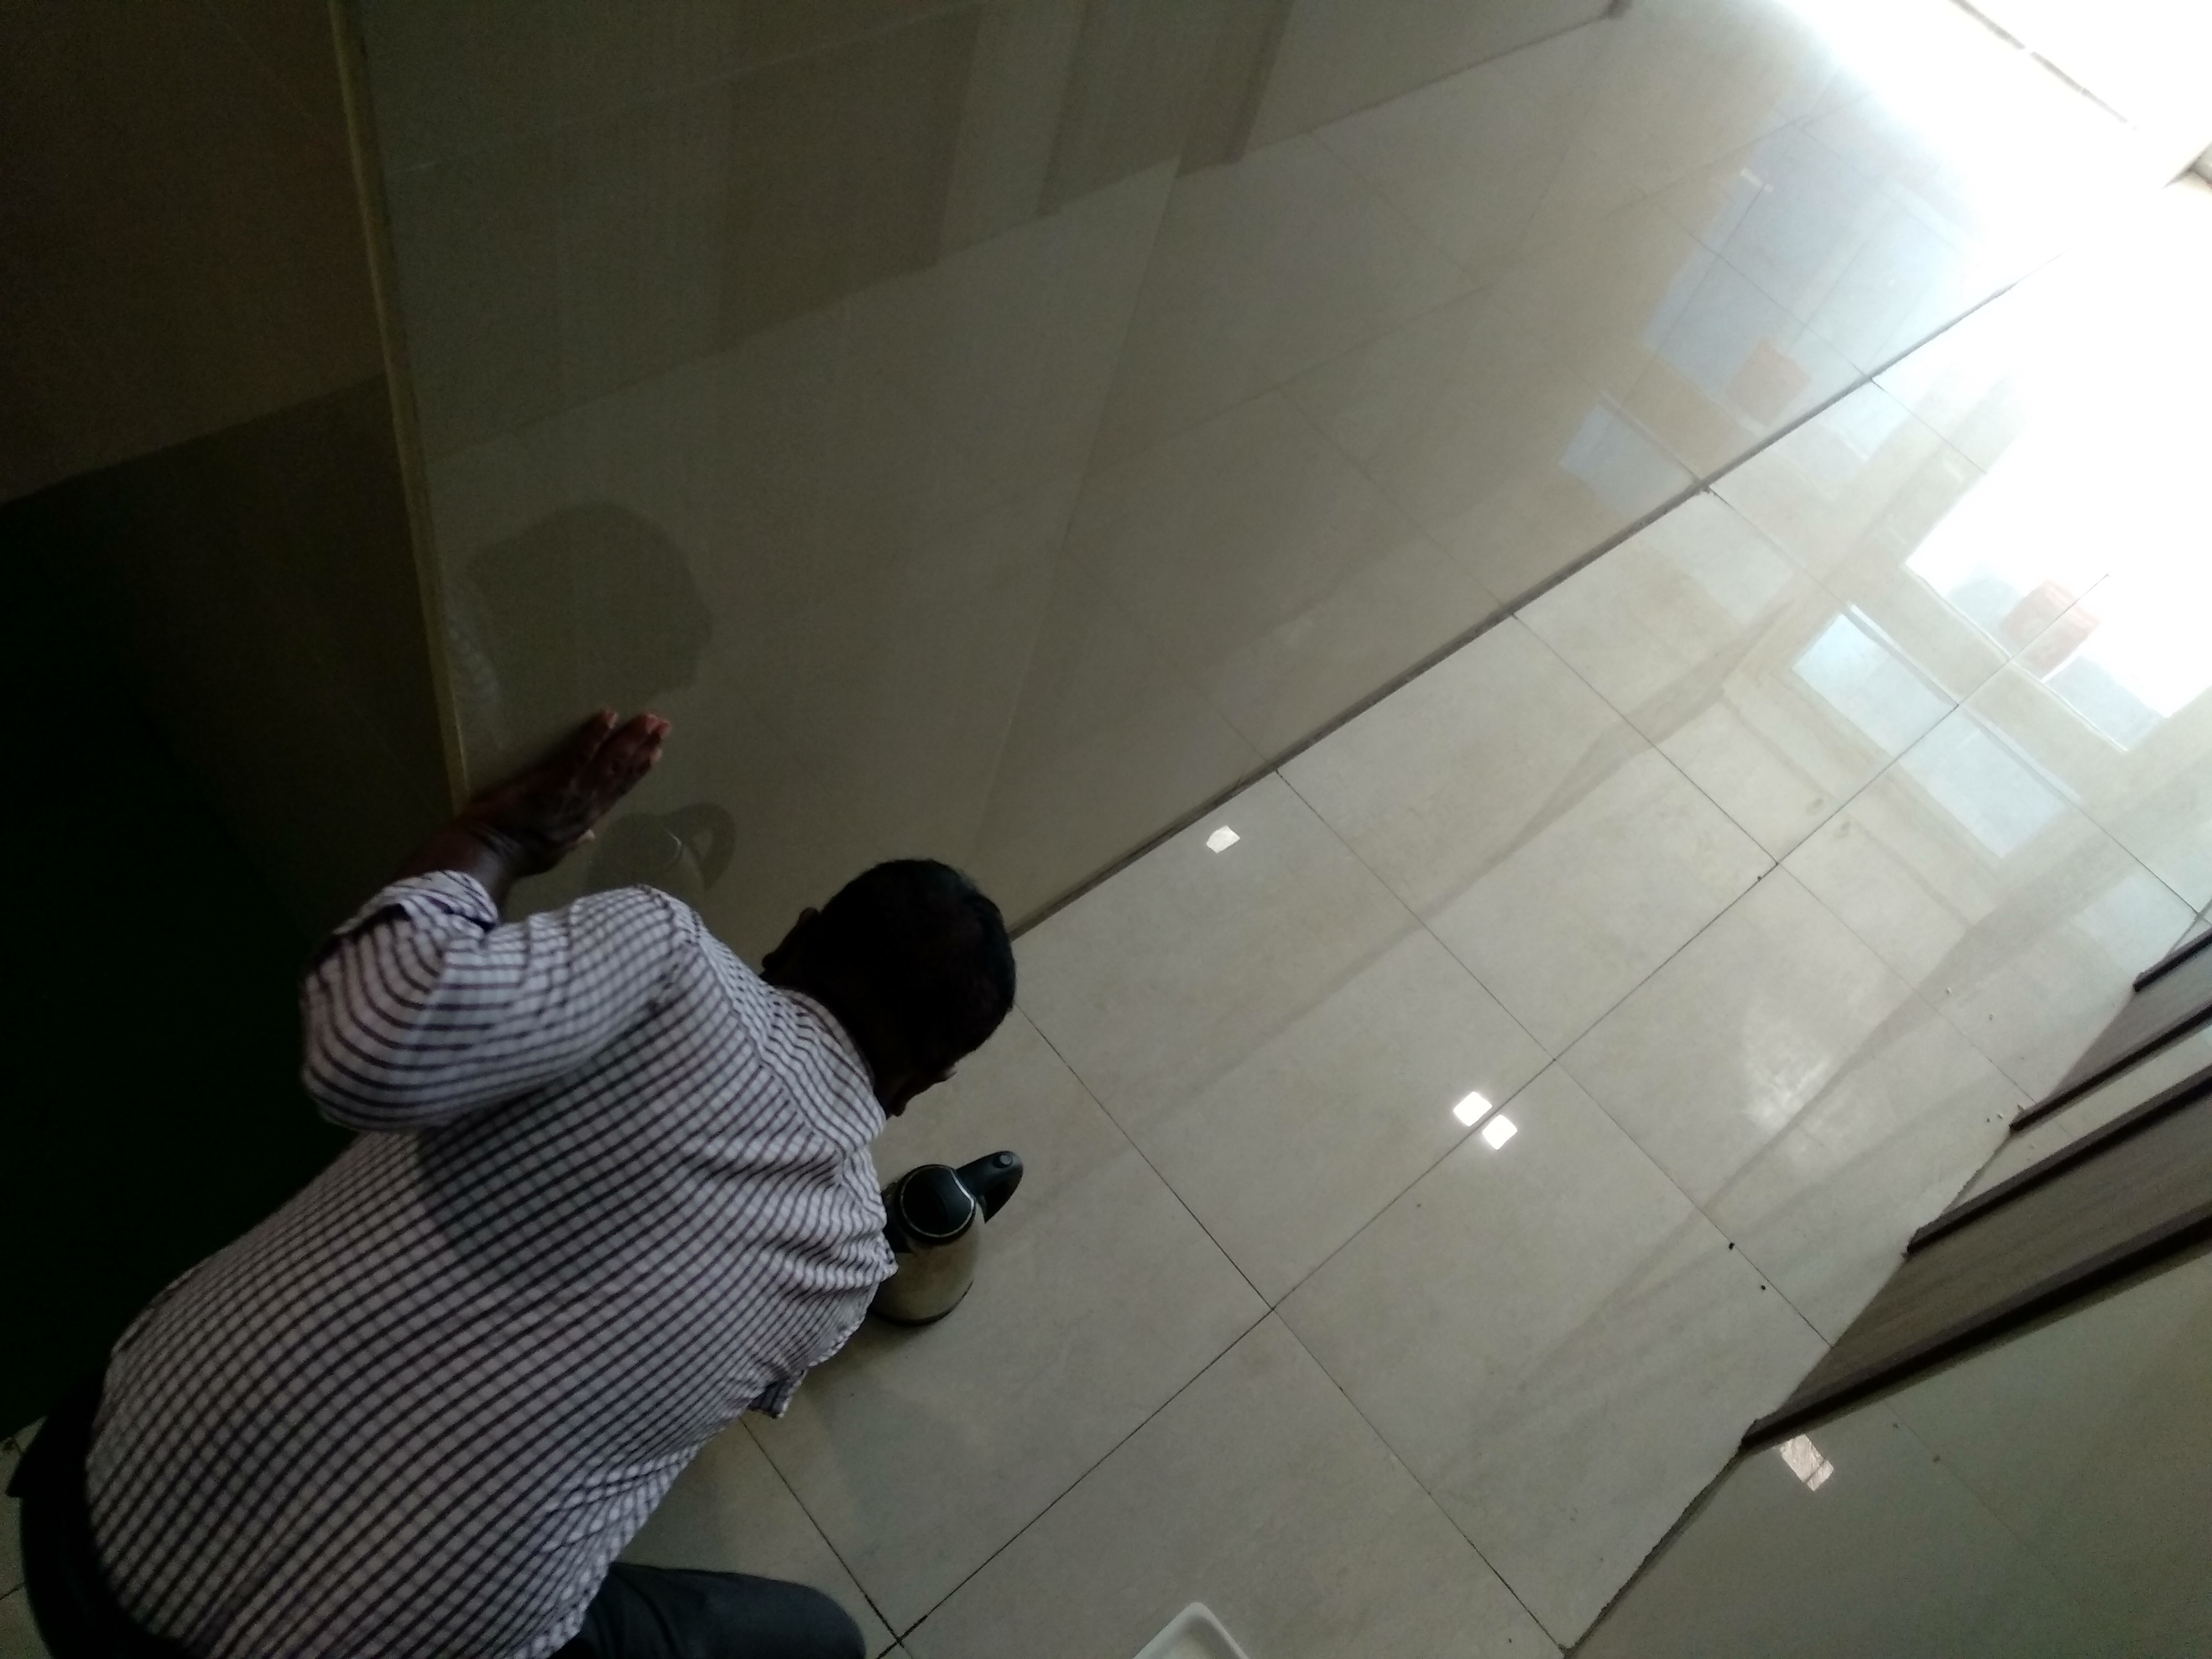JUG: (894, 1150, 1024, 1319)
